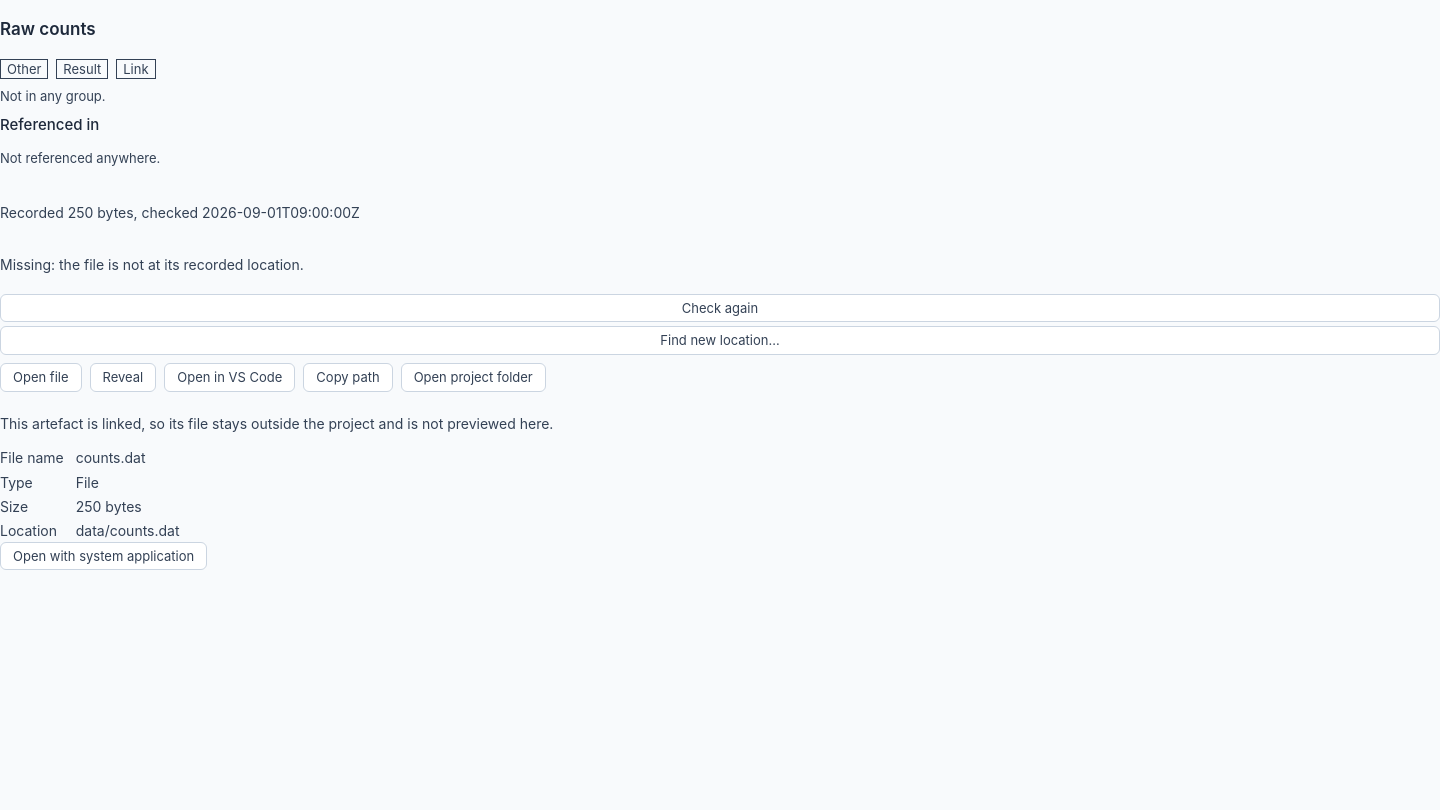
Test: Relink › says when nothing in the chosen folder matches
This screenshot has width=1440, height=810.
Click the button "Find new location…" at (720, 341), box left=0, top=326, right=1439, bottom=355
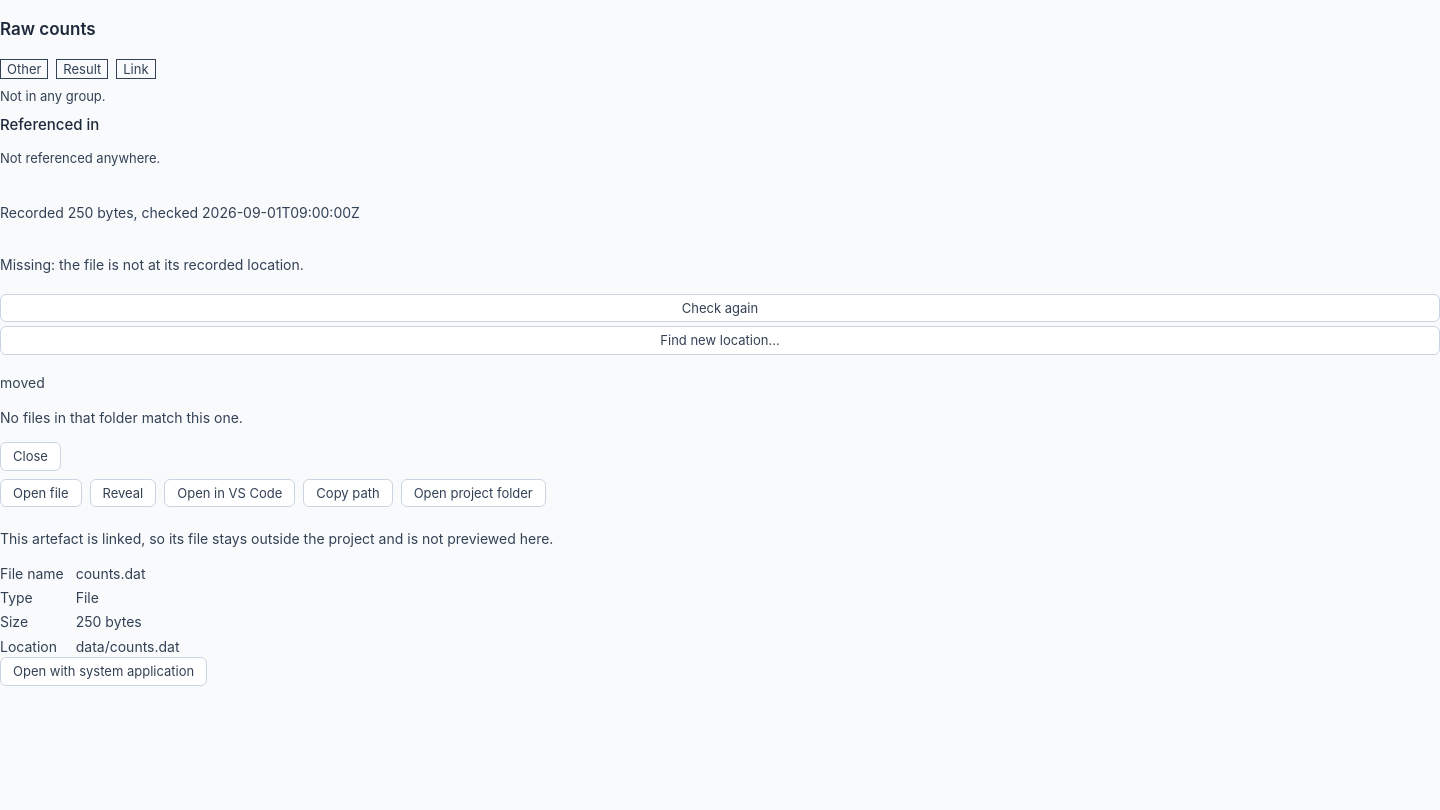
Now the text "No files in that folder match this one." is shown, box left=0, top=408, right=243, bottom=426
